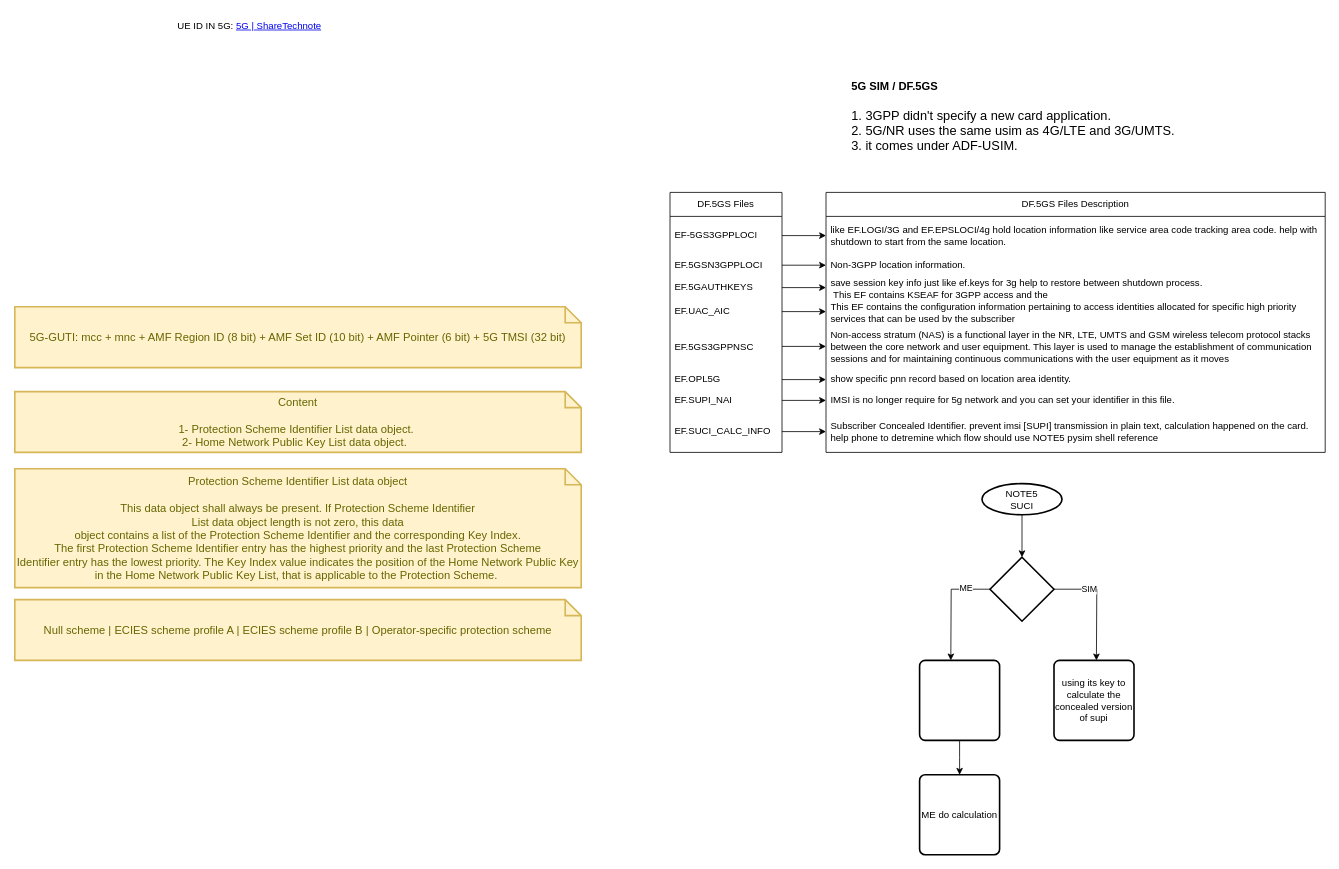
This 1339x869 diagram has some shape labels left out. Each missing label, with the centre of its shape:
"ask sim to get its key" goes at pixel 959 700.
"ME or SIM" goes at pixel 1021 589.
